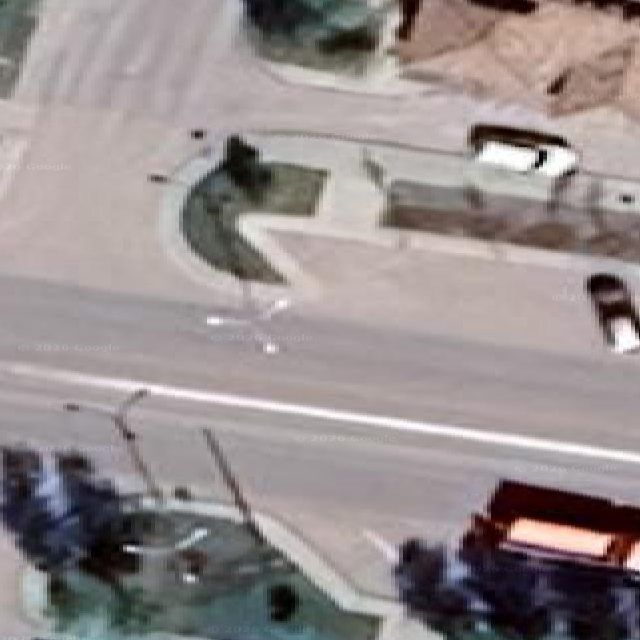car: (467, 124, 577, 178), (586, 273, 639, 353)
